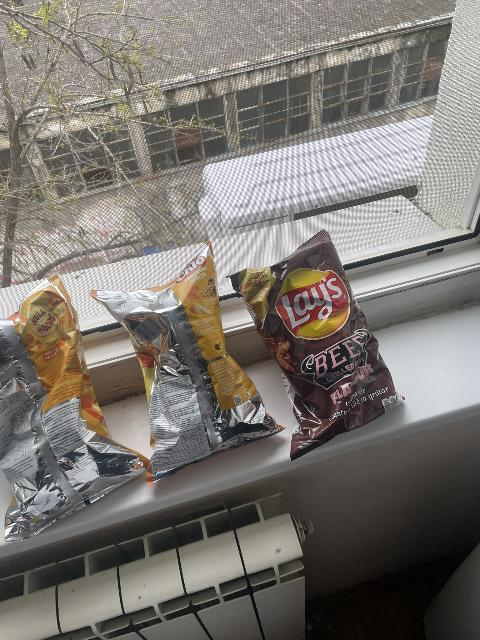Chio Cascaval 125g: (90, 242, 283, 485)
Chio Hula Hoops Cheese 70g: (1, 274, 151, 545)
Lays Beef Grilled Ribs 125g: (230, 231, 402, 457)
